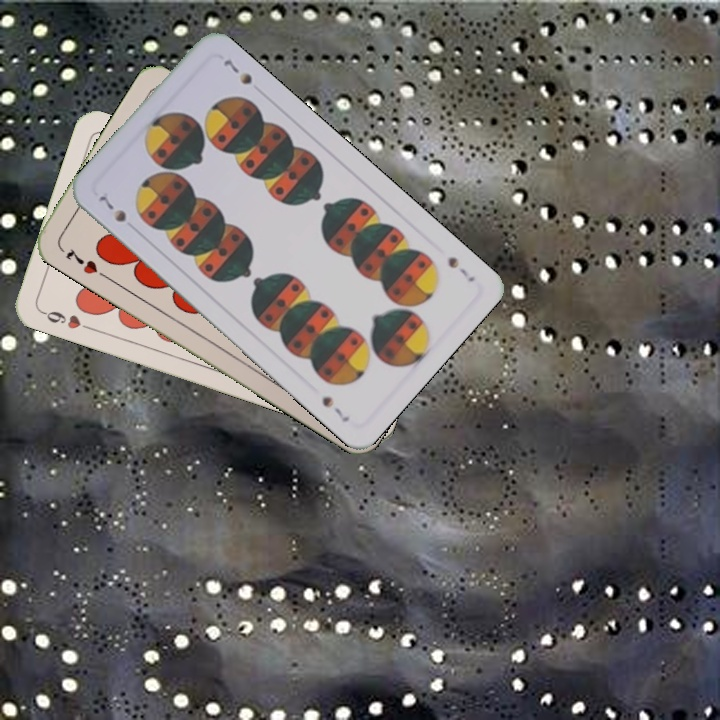H7: (62, 244, 110, 281)
H9: (37, 307, 95, 333)
S7: (95, 191, 129, 225), (443, 252, 478, 285)
